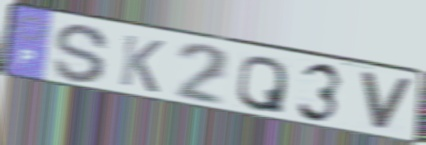2: (174, 42, 232, 109)
3: (293, 62, 353, 126)
K: (117, 32, 167, 96)
Q: (234, 55, 290, 116)
S: (51, 22, 112, 87)
V: (357, 69, 417, 135)
